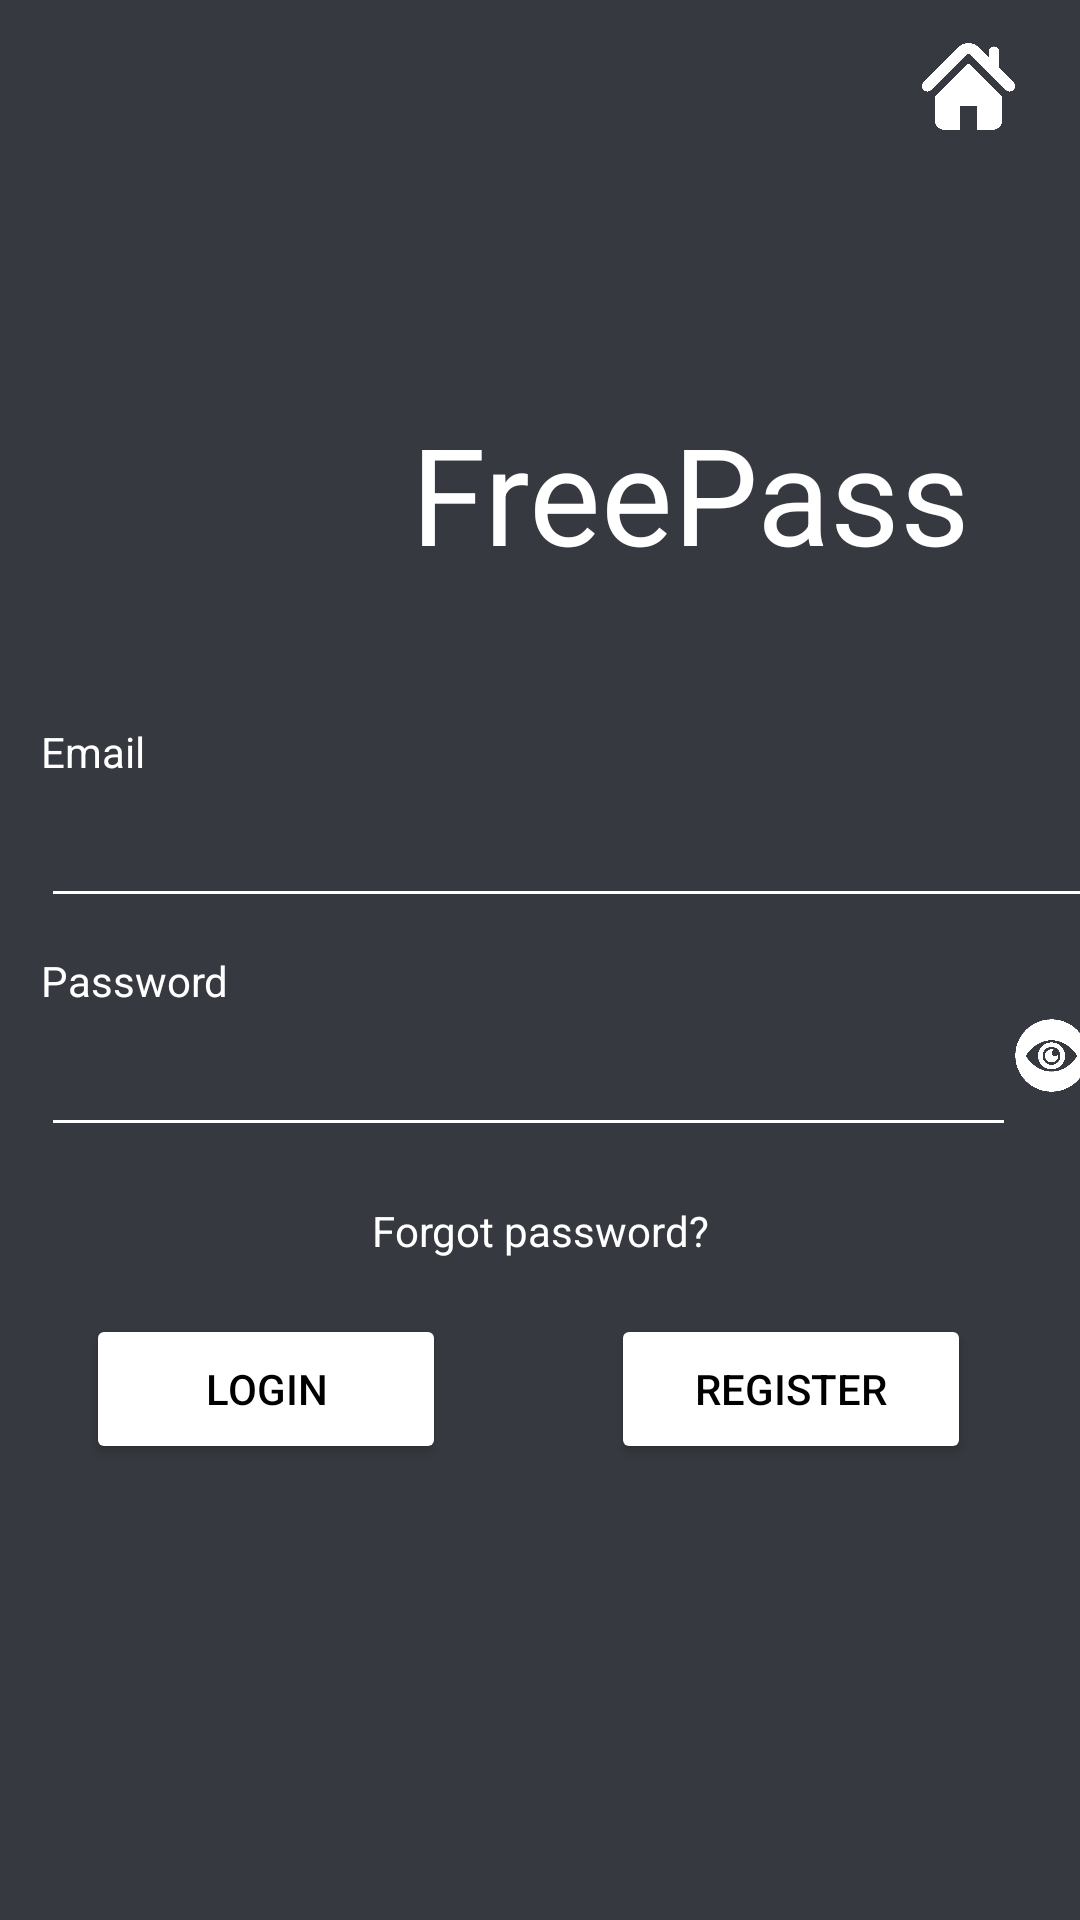

Where to tap for icons on this 1080 × 1920 app screen, as (x,y):
home: (968,86)
